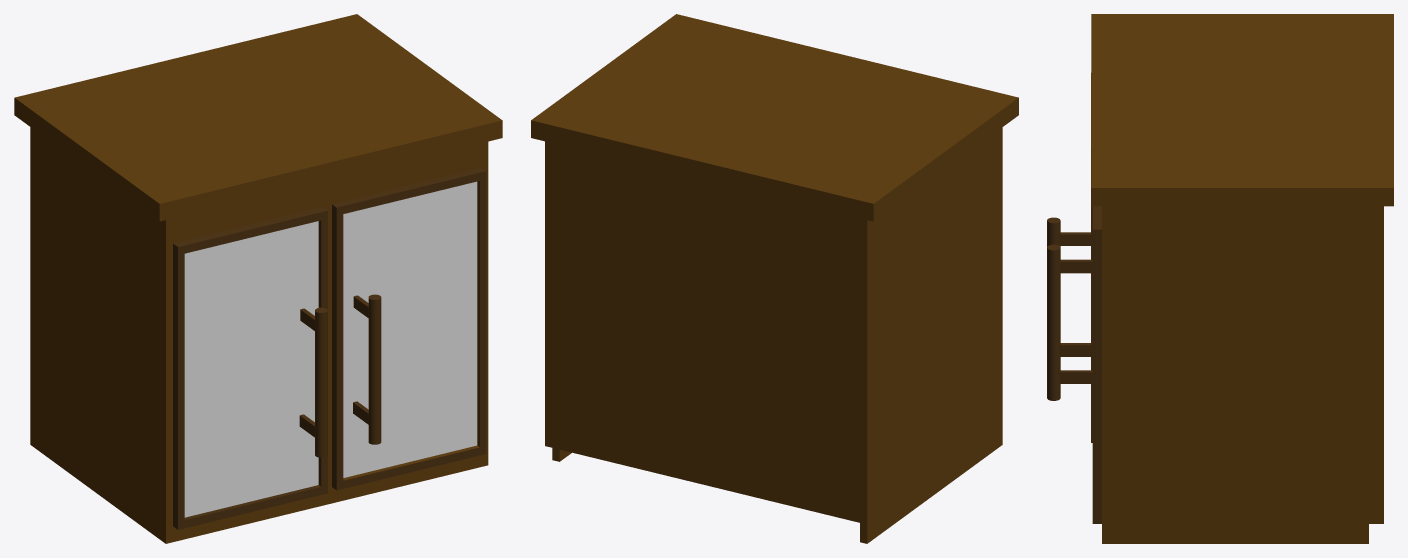
Rendered from KitchenCabinet.fbx.
The picture shows the model from 3 angles, left to right: view 1: azimuth 30°, elevation 25°; view 2: azimuth 150°, elevation 25°; view 3: azimuth 270°, elevation 25°; orthographic projection. The views are drawn at different scales.
Visible parts, largest first — view 1: Armario, Cube, porta_1, porta, Agarre, Agarre.001; view 2: Armario, Cube; view 3: Armario, Cube, porta_1, Agarre, Agarre.001, porta.
Boxes of the visible parts, box(x1,y1,x2,y2) form: Armario: box(30, 127, 488, 543); Cube: box(14, 14, 502, 221); porta_1: box(332, 168, 486, 490); porta: box(173, 207, 327, 529); Agarre: box(353, 294, 381, 444); Agarre.001: box(299, 307, 327, 457); Armario: box(545, 127, 1002, 543); Cube: box(531, 14, 1018, 221); Armario: box(1102, 206, 1383, 543); Cube: box(1091, 14, 1393, 206); porta_1: box(1092, 206, 1101, 523); Agarre: box(1047, 244, 1092, 400); Agarre.001: box(1047, 217, 1090, 356); porta: box(1091, 73, 1092, 442).
Bounding box in the file's own units: 207 × 200 × 174.
